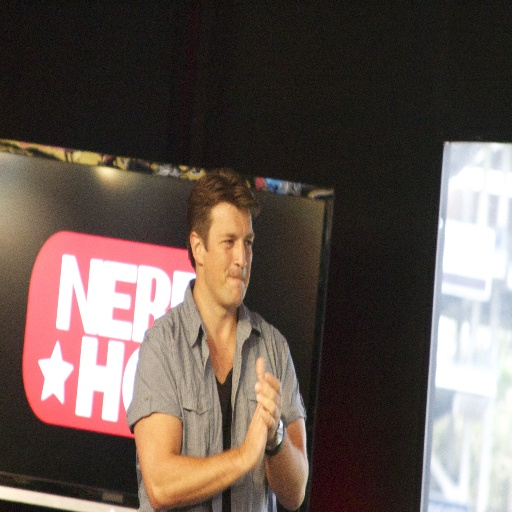hand: (254, 356, 281, 441), (242, 395, 269, 468)
